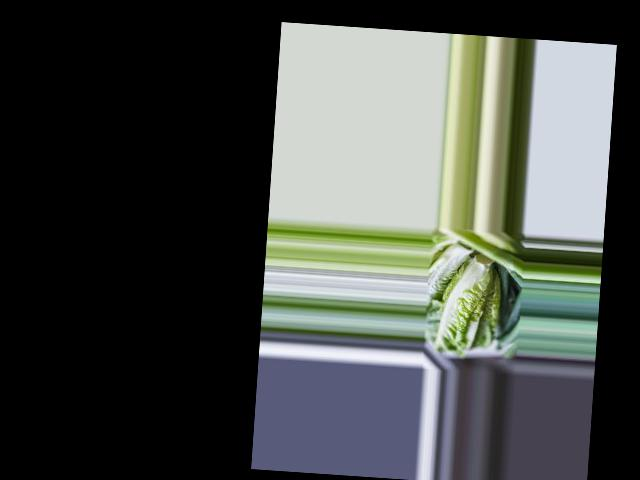lettuce: (417, 255, 514, 369)
